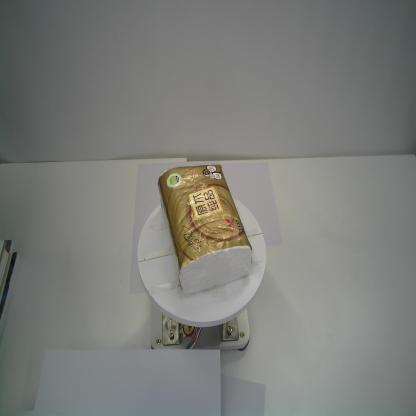Tissue: (157, 164, 253, 296)
